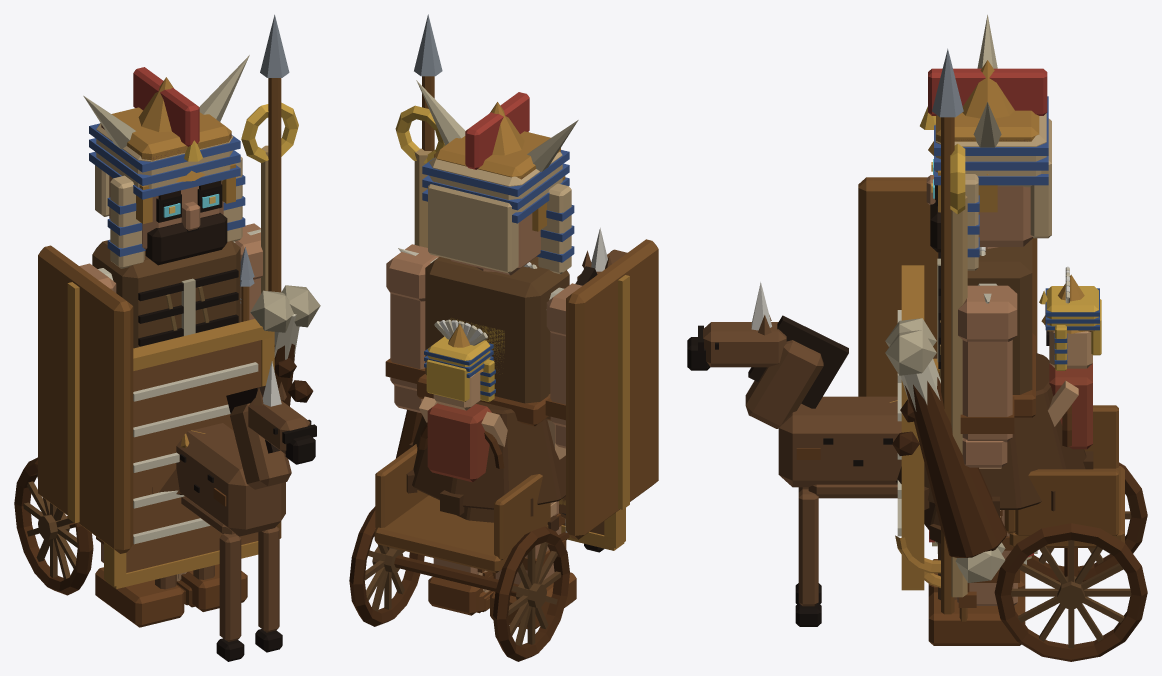
File: mobs.glb
3 views of the same model, side by side, from view 1: azimuth 30°, elevation 25°; view 2: azimuth 150°, elevation 25°; view 3: azimuth 270°, elevation 25° (orthographic). The views are drawn at different scales.
Visible parts, largest first — view 1: mob_3_jerico, mob_2_ela, mob_3_ela, mob_6_ela, mob_3_mar, mob_3_ossos, mob_6_ossos, mob_6_jerico, mob_2_ossos; view 2: mob_3_ela, mob_2_ela, mob_3_jerico, mob_3_mar, mob_2_mar, mob_6_ela, mob_3_ossos; view 3: mob_2_ela, mob_3_ela, mob_3_jerico, mob_3_mar, mob_3_ossos, mob_6_ela, mob_2_mar.
Boxes of the visible parts, <box> form: mob_3_jerico: <box>38,14,289,553</box>; mob_2_ela: <box>14,361,315,661</box>; mob_3_ela: <box>79,67,313,627</box>; mob_6_ela: <box>104,278,274,607</box>; mob_3_mar: <box>89,102,298,330</box>; mob_3_ossos: <box>83,55,320,359</box>; mob_6_ossos: <box>133,362,258,544</box>; mob_6_jerico: <box>240,247,254,321</box>; mob_2_ossos: <box>180,424,316,492</box>; mob_3_ela: <box>385,92,582,629</box>; mob_2_ela: <box>349,228,627,661</box>; mob_3_jerico: <box>414,14,658,539</box>; mob_3_mar: <box>395,105,574,274</box>; mob_2_mar: <box>424,336,495,402</box>; mob_6_ela: <box>457,262,625,613</box>; mob_3_ossos: <box>398,80,578,299</box>; mob_2_ela: <box>687,266,1147,661</box>; mob_3_ela: <box>892,68,1093,645</box>; mob_3_jerico: <box>858,48,1037,614</box>; mob_3_mar: <box>920,96,1051,597</box>; mob_3_ossos: <box>885,15,1031,582</box>; mob_6_ela: <box>889,247,1007,590</box>; mob_2_mar: <box>1039,286,1101,370</box>.
Size of the model in its own units: 1.45 by 3.45 by 2.31.
